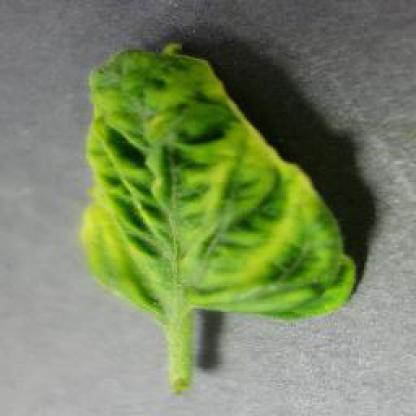good leaf: (65, 40, 342, 410)
